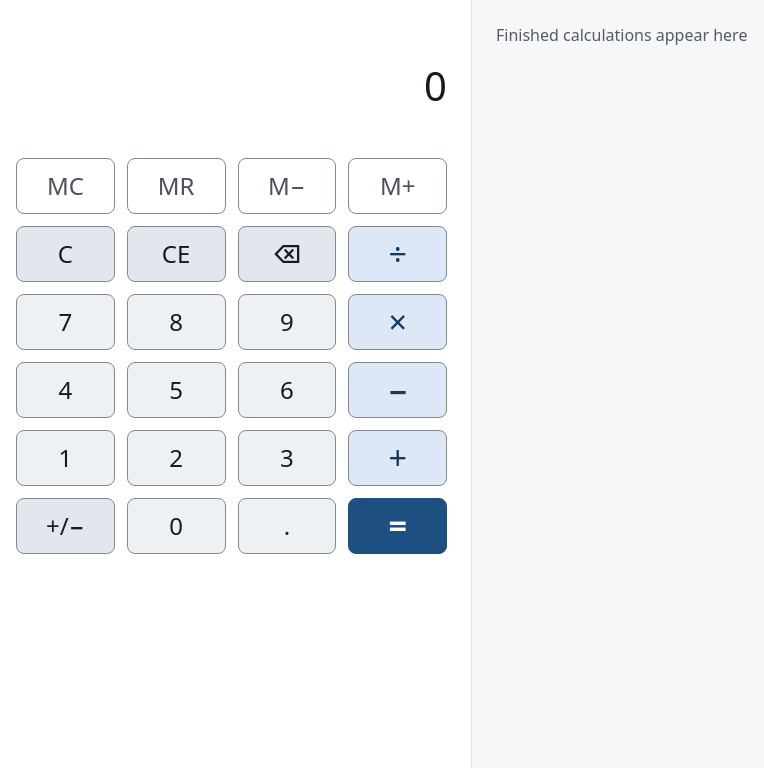
it: S-1 Type a figure, and messages › AC-1.7: a click anywhere also dismisses it
Type keys "1234567890123456"
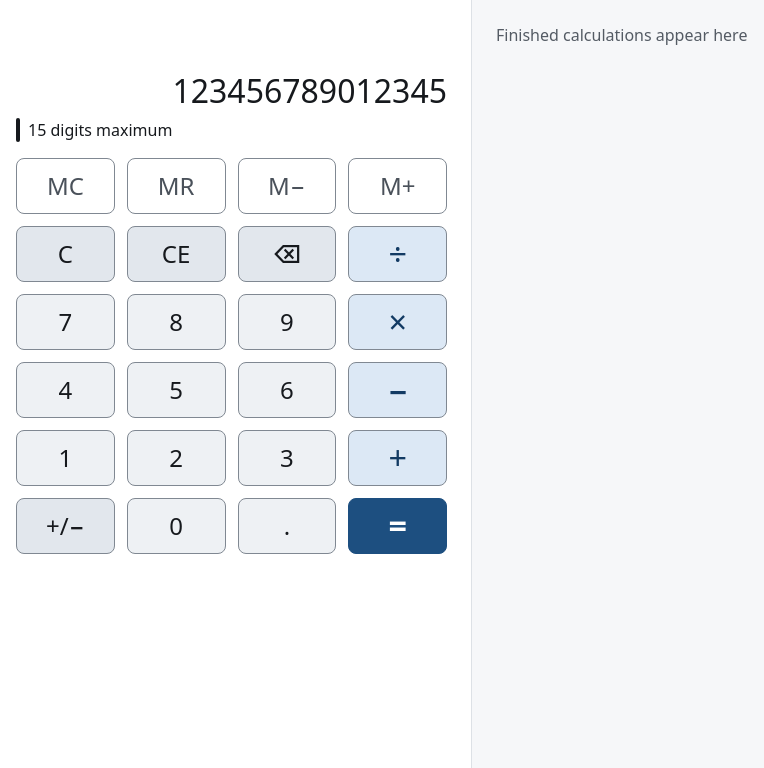
Press the mouse on the message "123456789012345" at [232, 79], box [16,48,447,110]
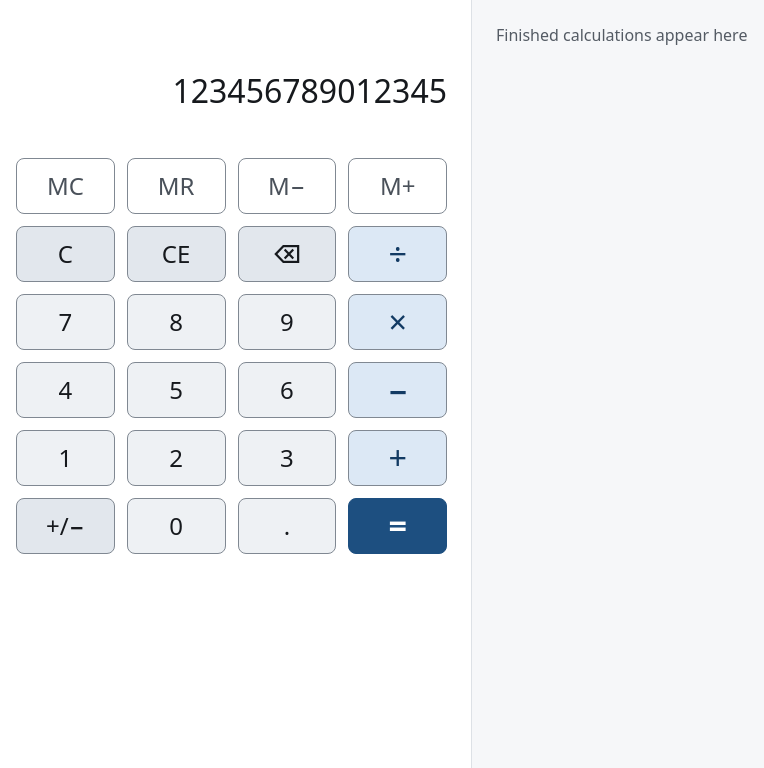
Expected: the text "15 digits maximum" is gone
